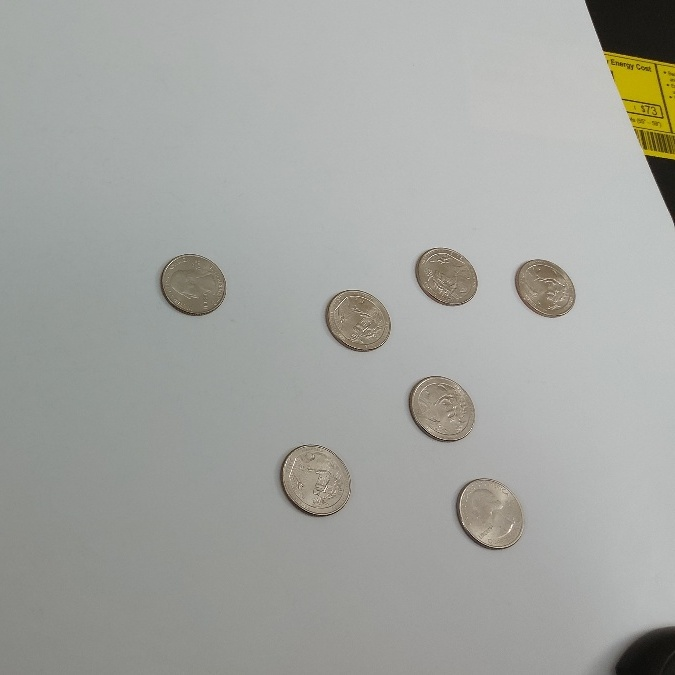coin_quarter: (453, 477, 528, 554), (277, 441, 352, 518), (406, 371, 481, 448), (409, 238, 486, 309), (320, 285, 396, 356), (511, 252, 581, 322), (158, 247, 228, 316)
